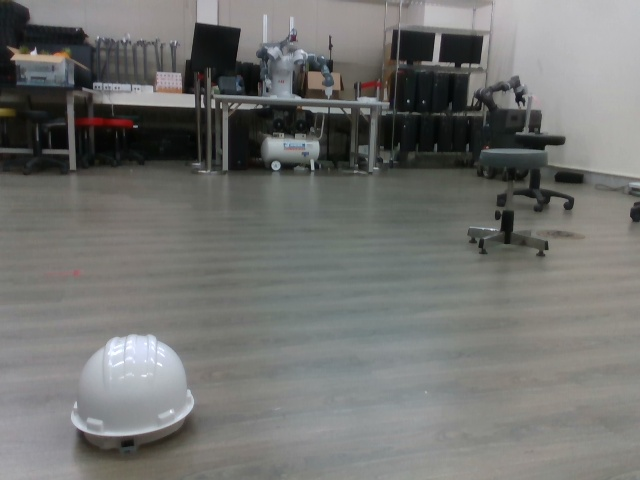helmet: (67, 332, 195, 449)
